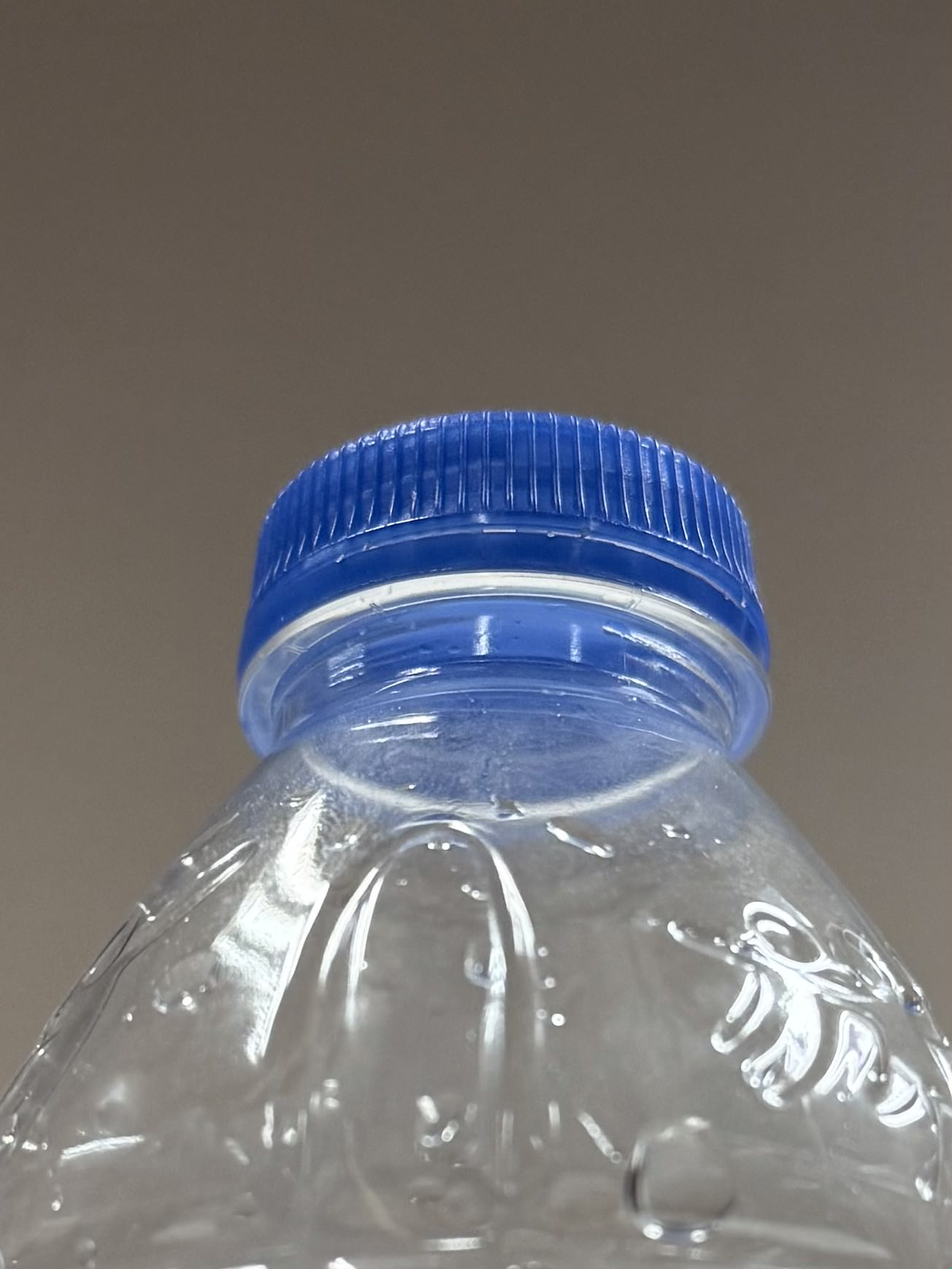closed_cap: (233, 402, 776, 770)
